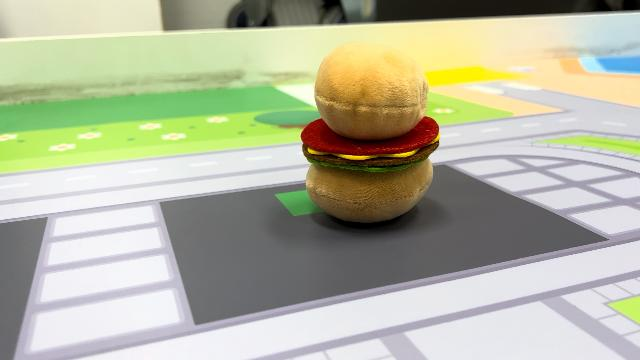burger: (296, 38, 444, 226)
